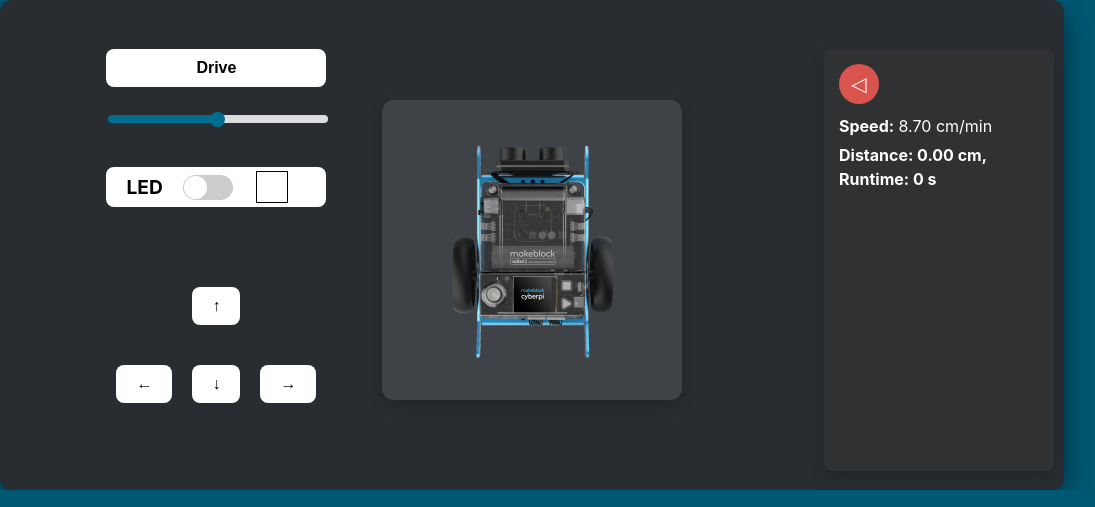
Test: ControlPanel › starts and stops driving
This screenshot has width=1095, height=507.
Click the button "Drive" at (216, 68), box [106,49,326,87]
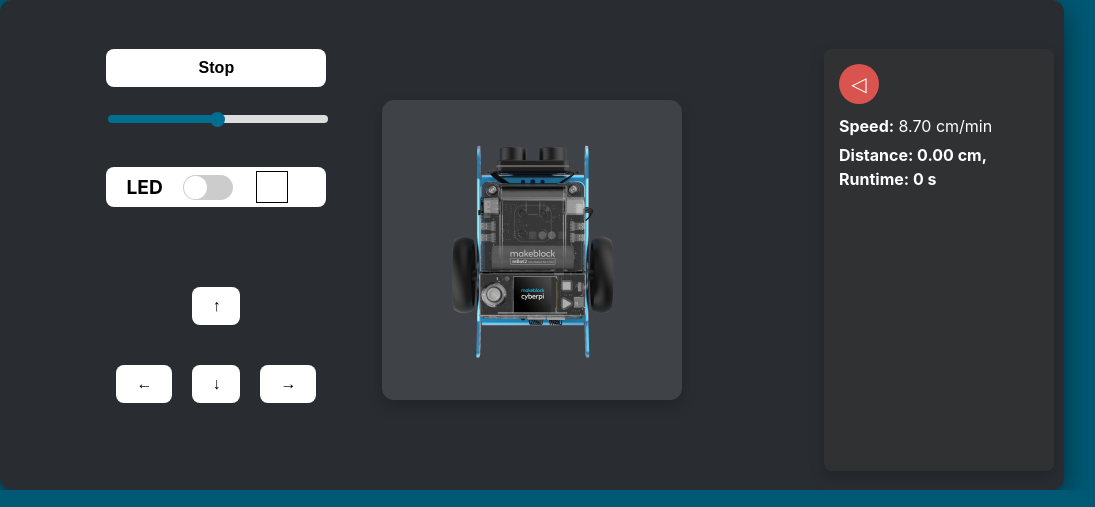
Expected: the button "Drive" reads "Stop"
Click the button "Drive" at (216, 68), box [106,49,326,87]
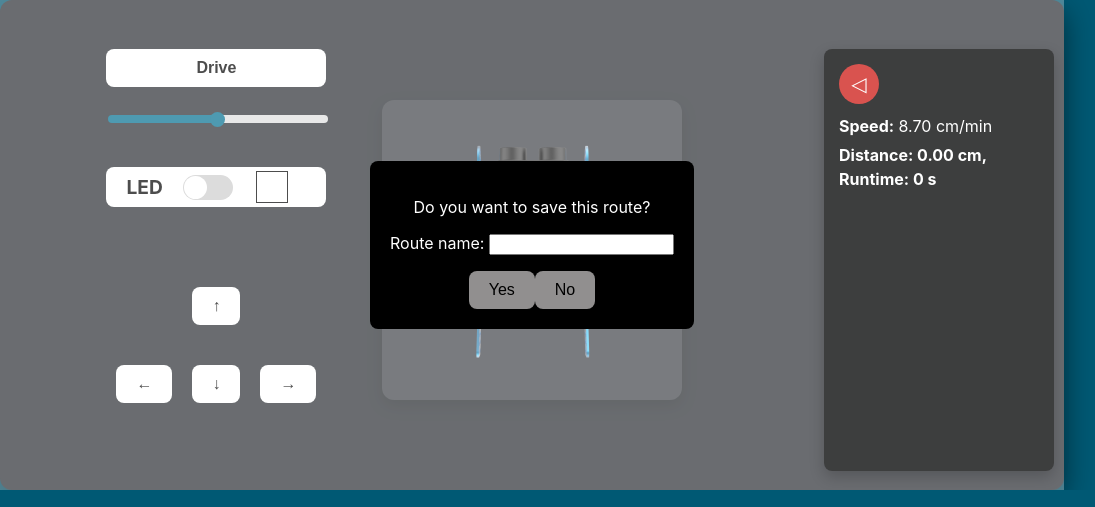
Expected: the button "Drive" is shown, [106,49,326,87]
